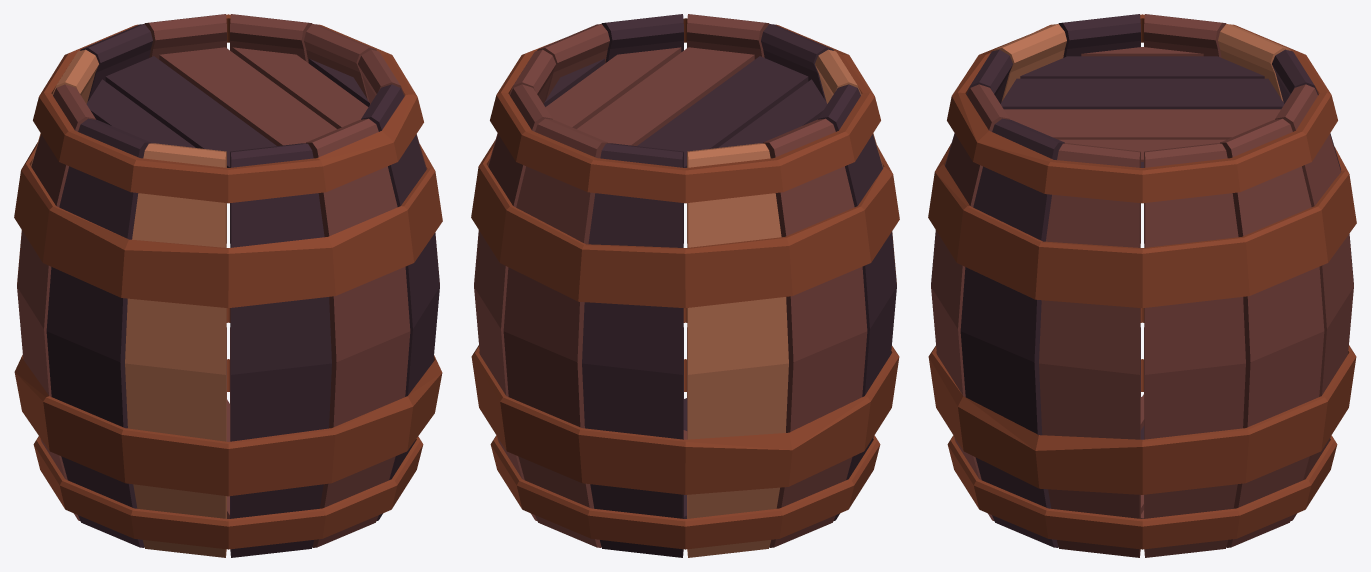
The model's file is Barrel 1_8b.fbx.
The picture shows the model from 3 angles, left to right: view 1: azimuth 30°, elevation 25°; view 2: azimuth 150°, elevation 25°; view 3: azimuth 270°, elevation 25°; orthographic projection.
Visible parts, largest first — view 1: Barrel 1_8b.015, Barrel 1_8b.017, Barrel 1_8b.001, Barrel 1_8b.005, Barrel 1_8b.004, Barrel 1_8b.006, Barrel 1_8b.003, Barrel 1_8b.014, Barrel 1_8b.016, Barrel 1_8b, Barrel 1_8b.007, Barrel 1_8b.009 (+5 smaller); view 2: Barrel 1_8b.015, Barrel 1_8b.017, Barrel 1_8b.001, Barrel 1_8b.012, Barrel 1_8b.011, Barrel 1_8b.008, Barrel 1_8b.007, Barrel 1_8b.014, Barrel 1_8b.016, Barrel 1_8b.006, Barrel 1_8b.009, Barrel 1_8b (+5 smaller); view 3: Barrel 1_8b.015, Barrel 1_8b.017, Barrel 1_8b.013, Barrel 1_8b.001, Barrel 1_8b.010, Barrel 1_8b, Barrel 1_8b.009, Barrel 1_8b.014, Barrel 1_8b.016, Barrel 1_8b.008, Barrel 1_8b.003, Barrel 1_8b.006 (+5 smaller).
Part boxes in pixels (bbox=[...]): Barrel 1_8b.015: bbox=[14, 142, 442, 308]; Barrel 1_8b.017: bbox=[14, 308, 442, 496]; Barrel 1_8b.001: bbox=[86, 47, 369, 167]; Barrel 1_8b.005: bbox=[125, 143, 226, 557]; Barrel 1_8b.004: bbox=[230, 143, 331, 557]; Barrel 1_8b.006: bbox=[46, 118, 150, 547]; Barrel 1_8b.003: bbox=[306, 118, 410, 547]; Barrel 1_8b.014: bbox=[33, 14, 423, 203]; Barrel 1_8b.016: bbox=[33, 359, 423, 549]; Barrel 1_8b: bbox=[361, 84, 439, 520]; Barrel 1_8b.007: bbox=[17, 84, 95, 520]; Barrel 1_8b.009: bbox=[230, 14, 312, 403]; Barrel 1_8b.015: bbox=[471, 140, 899, 308]; Barrel 1_8b.017: bbox=[471, 308, 899, 494]; Barrel 1_8b.001: bbox=[544, 47, 827, 167]; Barrel 1_8b.012: bbox=[582, 143, 683, 557]; Barrel 1_8b.011: bbox=[687, 143, 788, 557]; Barrel 1_8b.008: bbox=[503, 118, 607, 547]; Barrel 1_8b.007: bbox=[763, 118, 867, 547]; Barrel 1_8b.014: bbox=[490, 18, 880, 203]; Barrel 1_8b.016: bbox=[490, 359, 880, 549]; Barrel 1_8b.006: bbox=[818, 84, 896, 520]; Barrel 1_8b.009: bbox=[474, 84, 552, 520]; Barrel 1_8b: bbox=[601, 14, 683, 398]; Barrel 1_8b.015: bbox=[928, 143, 1356, 308]; Barrel 1_8b.017: bbox=[928, 308, 1356, 494]; Barrel 1_8b.013: bbox=[1039, 143, 1140, 557]; Barrel 1_8b.001: bbox=[1000, 47, 1284, 167]; Barrel 1_8b.010: bbox=[1144, 143, 1245, 557]; Barrel 1_8b: bbox=[960, 118, 1064, 547]; Barrel 1_8b.009: bbox=[1220, 118, 1324, 547]; Barrel 1_8b.014: bbox=[947, 14, 1337, 203]; Barrel 1_8b.016: bbox=[947, 359, 1337, 549]; Barrel 1_8b.008: bbox=[1275, 84, 1353, 520]; Barrel 1_8b.003: bbox=[931, 84, 1009, 520]; Barrel 1_8b.006: bbox=[1058, 14, 1140, 396].
Size of the model in its own units: 85.59 by 89.17 by 85.59.
